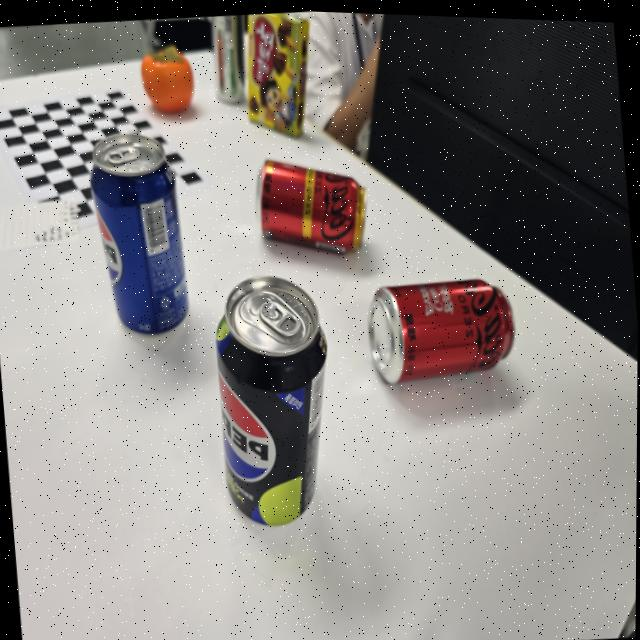can_coke_decaf: (257, 160, 366, 253)
can_coke_zero: (368, 279, 514, 382)
can_pepsi: (91, 134, 188, 333)
can_pepsi_zero: (216, 275, 326, 524)
